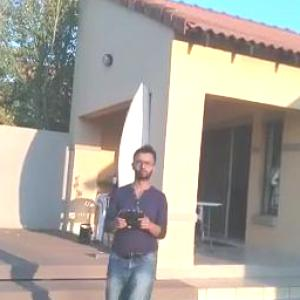follow: (98, 139, 174, 299)
